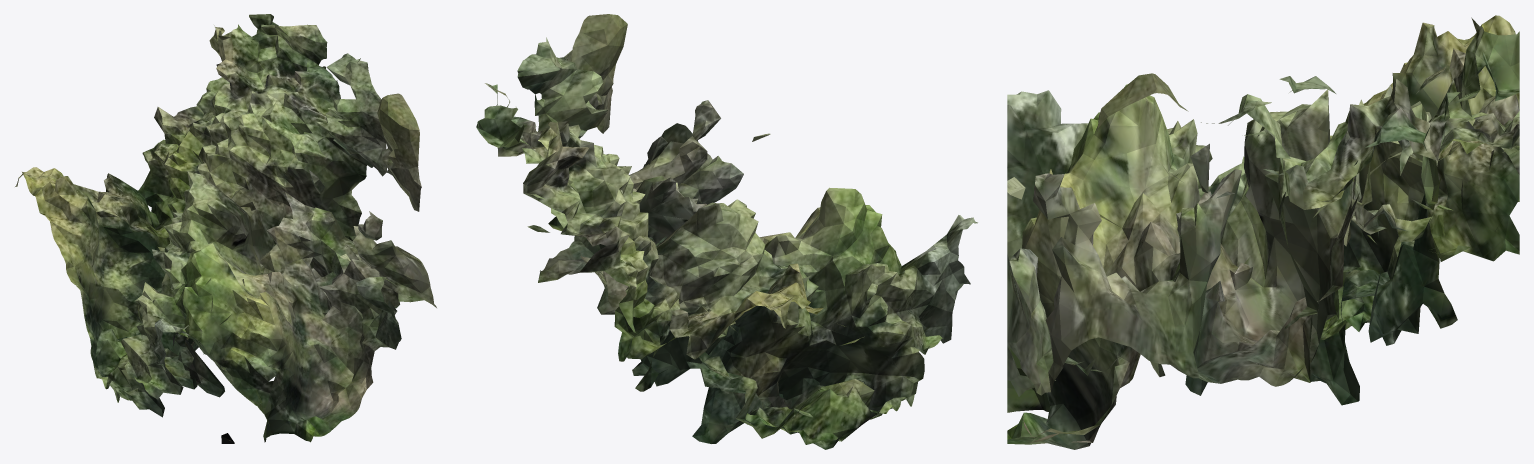
3 renders of one model, left to right at view 1: azimuth 30°, elevation 25°; view 2: azimuth 150°, elevation 25°; view 3: azimuth 270°, elevation 25°, orthographic. The views are drawn at different scales.
Bounding box in the file's own units: 23.6 × 23.6 × 23.6.
Materials: 7 (7 with a texture image).
